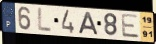4: (61, 9, 76, 35)
6: (17, 6, 32, 31)
8: (103, 12, 119, 37)
A: (77, 11, 100, 36)
E: (120, 13, 141, 39)
L: (37, 7, 53, 34)
